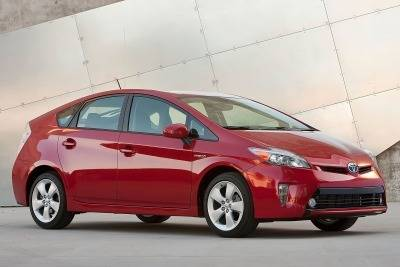Toyota Prius: (10, 87, 389, 240)
